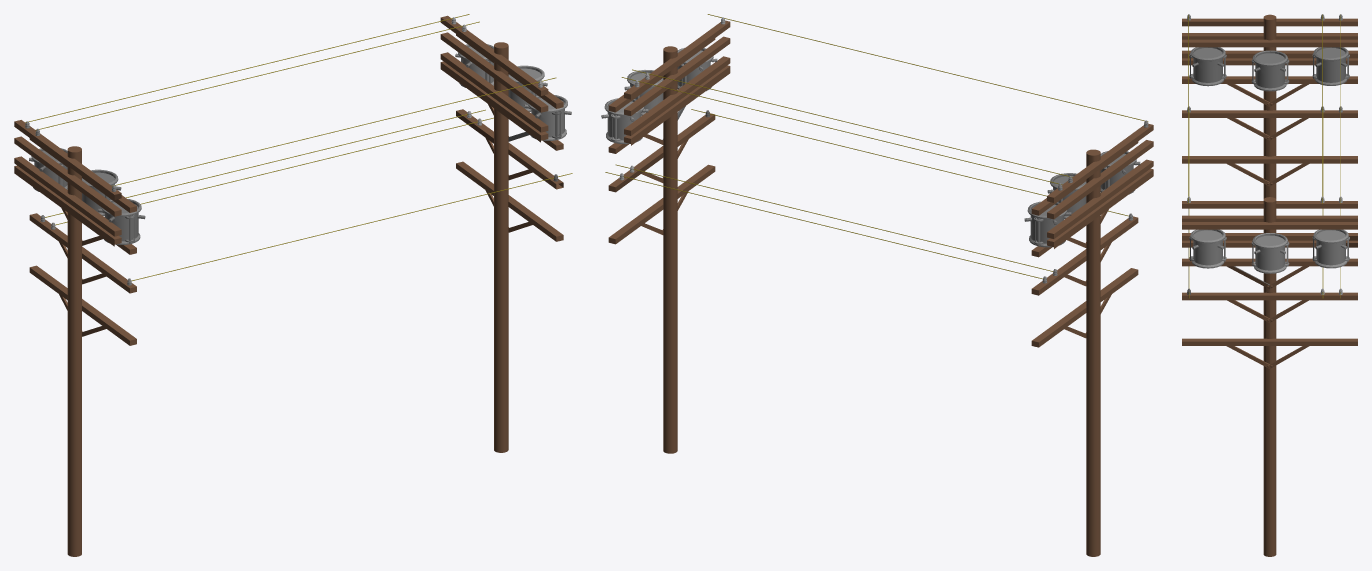
File: Powerlines.fbx
3 renders of one model, left to right at view 1: azimuth 30°, elevation 25°; view 2: azimuth 150°, elevation 25°; view 3: azimuth 270°, elevation 25°, orthographic. The views are drawn at different scales.
Parts seen in each view (by area): view 1: polySurface76; view 2: polySurface76; view 3: polySurface76.
Part boxes in pixels (x1,y1,x2,y2): polySurface76: [14, 14, 572, 556]; polySurface76: [601, 14, 1153, 556]; polySurface76: [1182, 14, 1357, 556].
Size of the model in its own units: 209 by 169 by 75.82.
